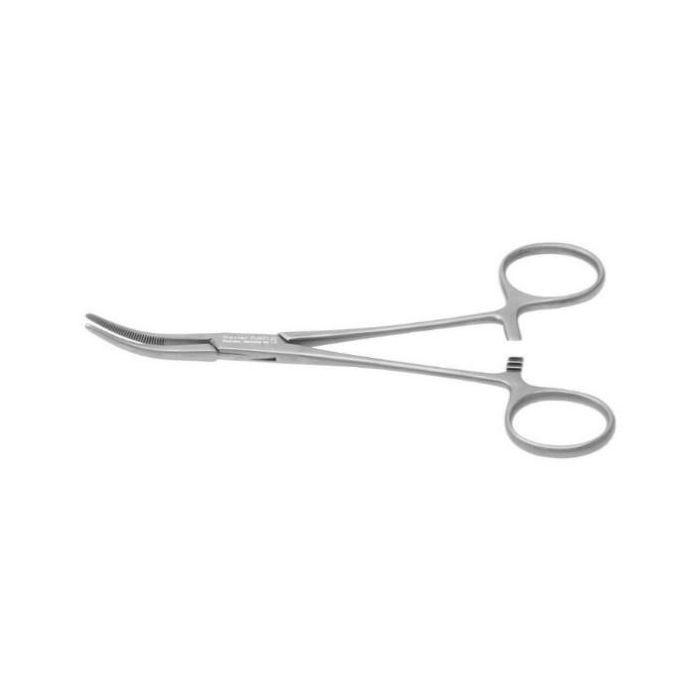Artery Forceps: (73, 239, 630, 473)
